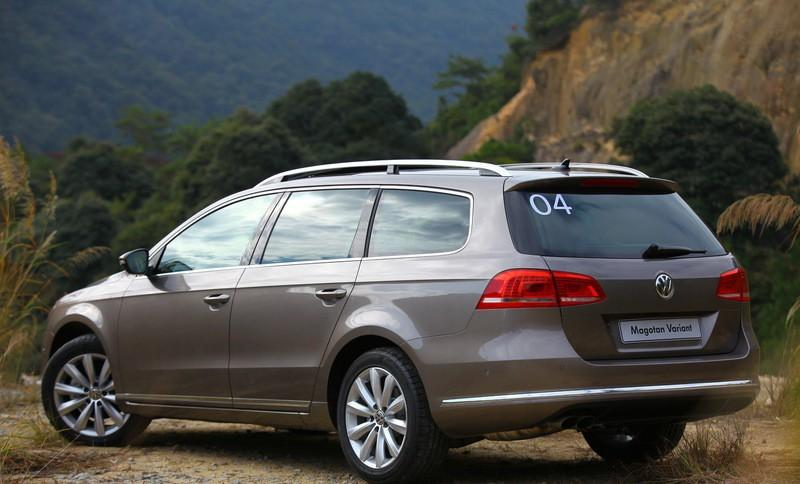Wagon: (39, 159, 762, 484)
